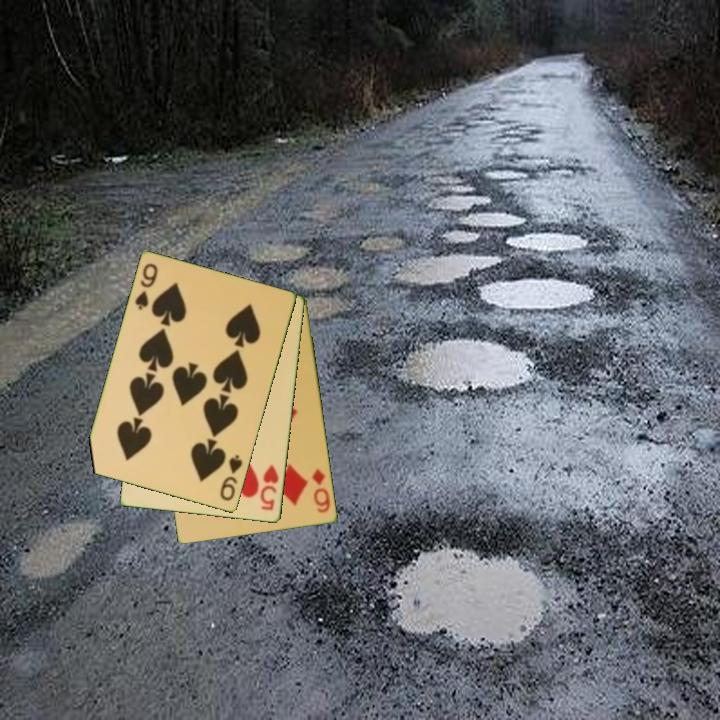5h: (257, 461, 282, 514)
6d: (309, 465, 333, 516)
9s: (216, 451, 246, 504), (132, 260, 161, 313)
